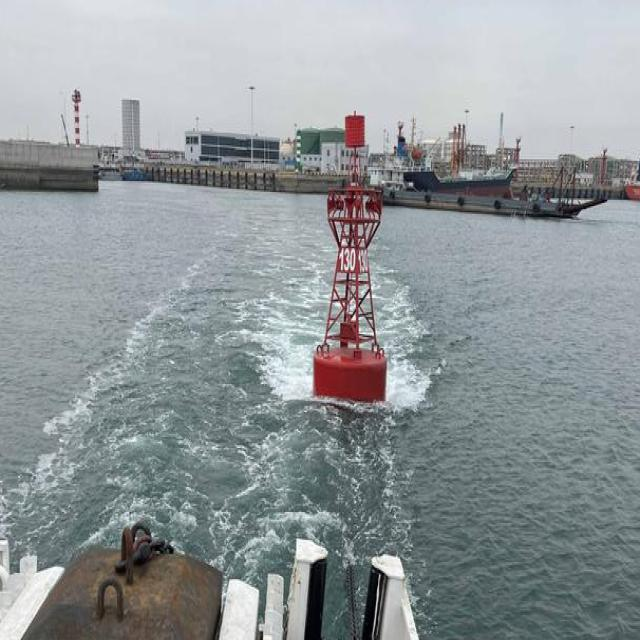buoy: (310, 109, 386, 407)
